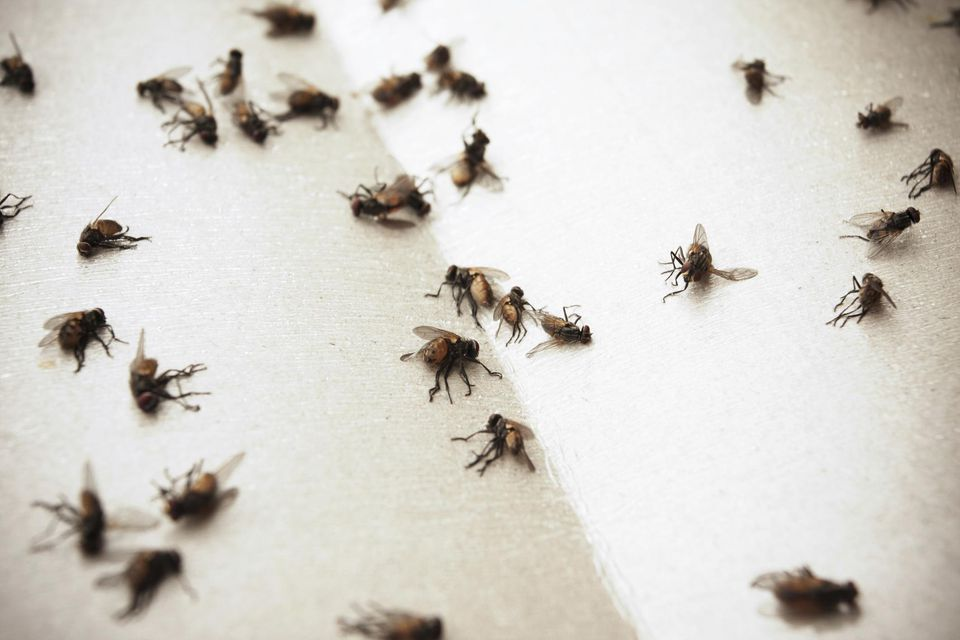fly: (25, 451, 136, 559), (143, 446, 256, 543), (386, 315, 501, 410), (335, 141, 449, 231), (88, 539, 196, 626), (644, 214, 757, 296), (27, 289, 123, 381), (452, 406, 551, 491), (119, 328, 206, 418), (756, 564, 873, 628), (820, 267, 909, 343), (846, 189, 933, 265), (435, 117, 509, 204), (270, 65, 356, 139), (72, 197, 149, 270), (161, 83, 227, 159), (896, 131, 960, 206), (433, 257, 507, 318), (851, 80, 919, 146), (727, 49, 798, 112), (1, 28, 56, 104), (247, 1, 322, 56), (531, 302, 614, 351), (222, 94, 281, 159), (493, 275, 535, 365), (365, 54, 428, 114), (127, 68, 194, 107)
